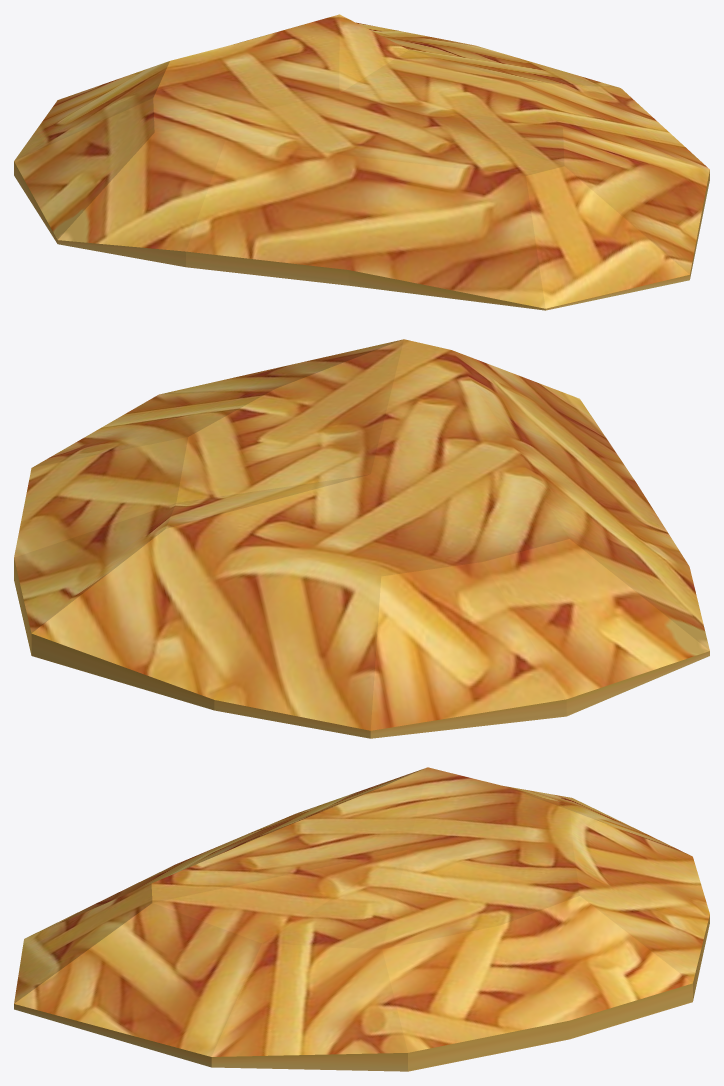
File: f_StraightFries_loose.fbx
The picture shows the model from 3 angles, top to bottom: view 1: azimuth 30°, elevation 25°; view 2: azimuth 150°, elevation 25°; view 3: azimuth 270°, elevation 25°; orthographic projection. The views are drawn at different scales.
Parts seen in each view (by area): view 1: Cylinder; view 2: Cylinder; view 3: Cylinder.
Part boxes in pixels (bbox=[...]): Cylinder: bbox=[14, 14, 709, 310]; Cylinder: bbox=[14, 339, 709, 738]; Cylinder: bbox=[14, 767, 709, 1071].
Bounding box in the file's own units: 38.46 × 36.33 × 5.05.
